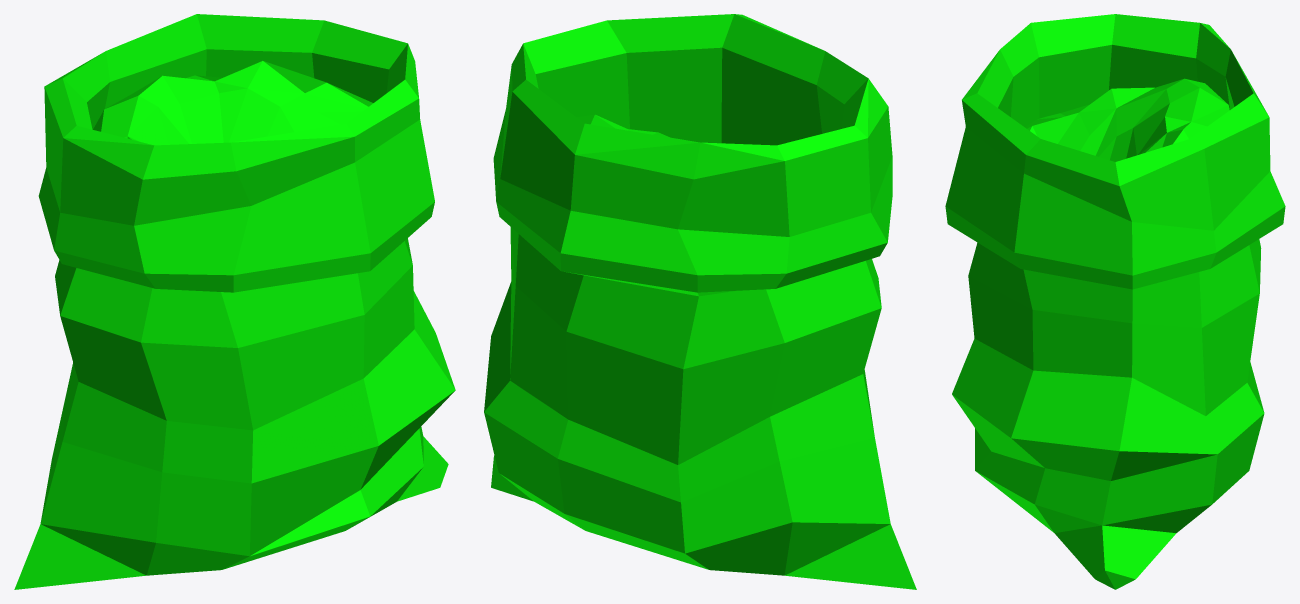
The model's file is SM_Bag_Spice_Opened_Fantasy.fbx.
3 renders of one model, left to right at view 1: azimuth 30°, elevation 25°; view 2: azimuth 150°, elevation 25°; view 3: azimuth 270°, elevation 25°, orthographic. The views are drawn at different scales.
Parts seen in each view (by area): view 1: bag-spice-opened-fantasy; view 2: bag-spice-opened-fantasy; view 3: bag-spice-opened-fantasy.
Boxes of the visible parts, box(x1,y1,x2,y2) form: bag-spice-opened-fantasy: box(14, 14, 455, 589); bag-spice-opened-fantasy: box(484, 14, 916, 589); bag-spice-opened-fantasy: box(945, 14, 1285, 589).
Bounding box in the file's own units: 0.6185 × 0.632 × 0.46.
